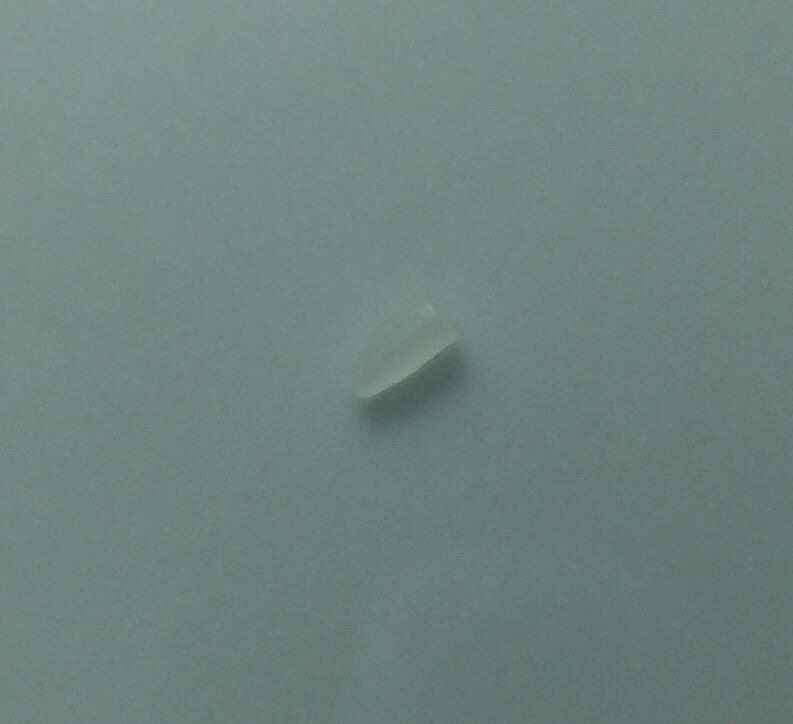Gao Tam: (335, 298, 454, 396)
